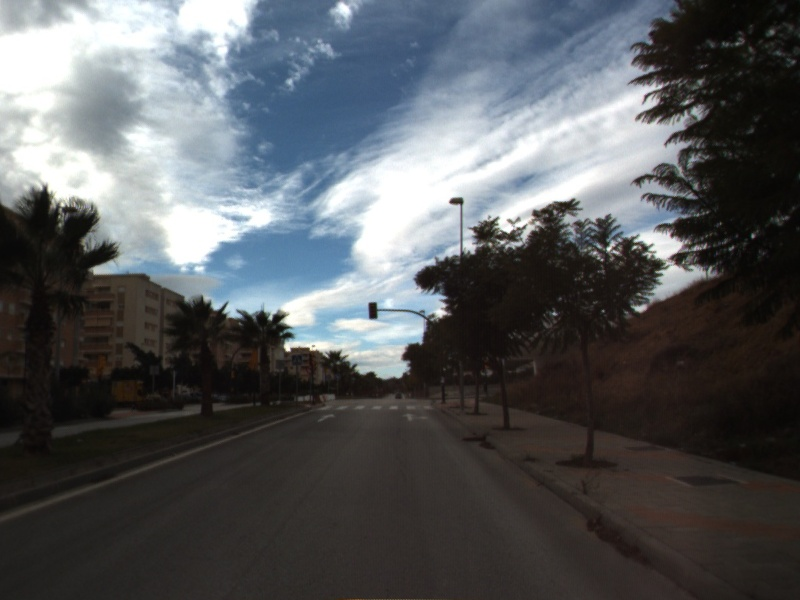STRAIGHT: (315, 411, 338, 424)
STRAIGHT_RIGHT: (400, 411, 430, 423)
